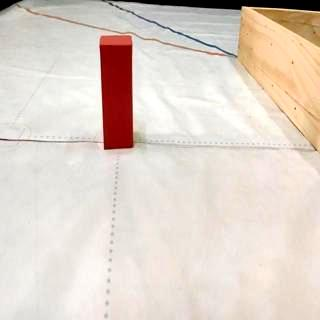redbox: (100, 36, 134, 150)
